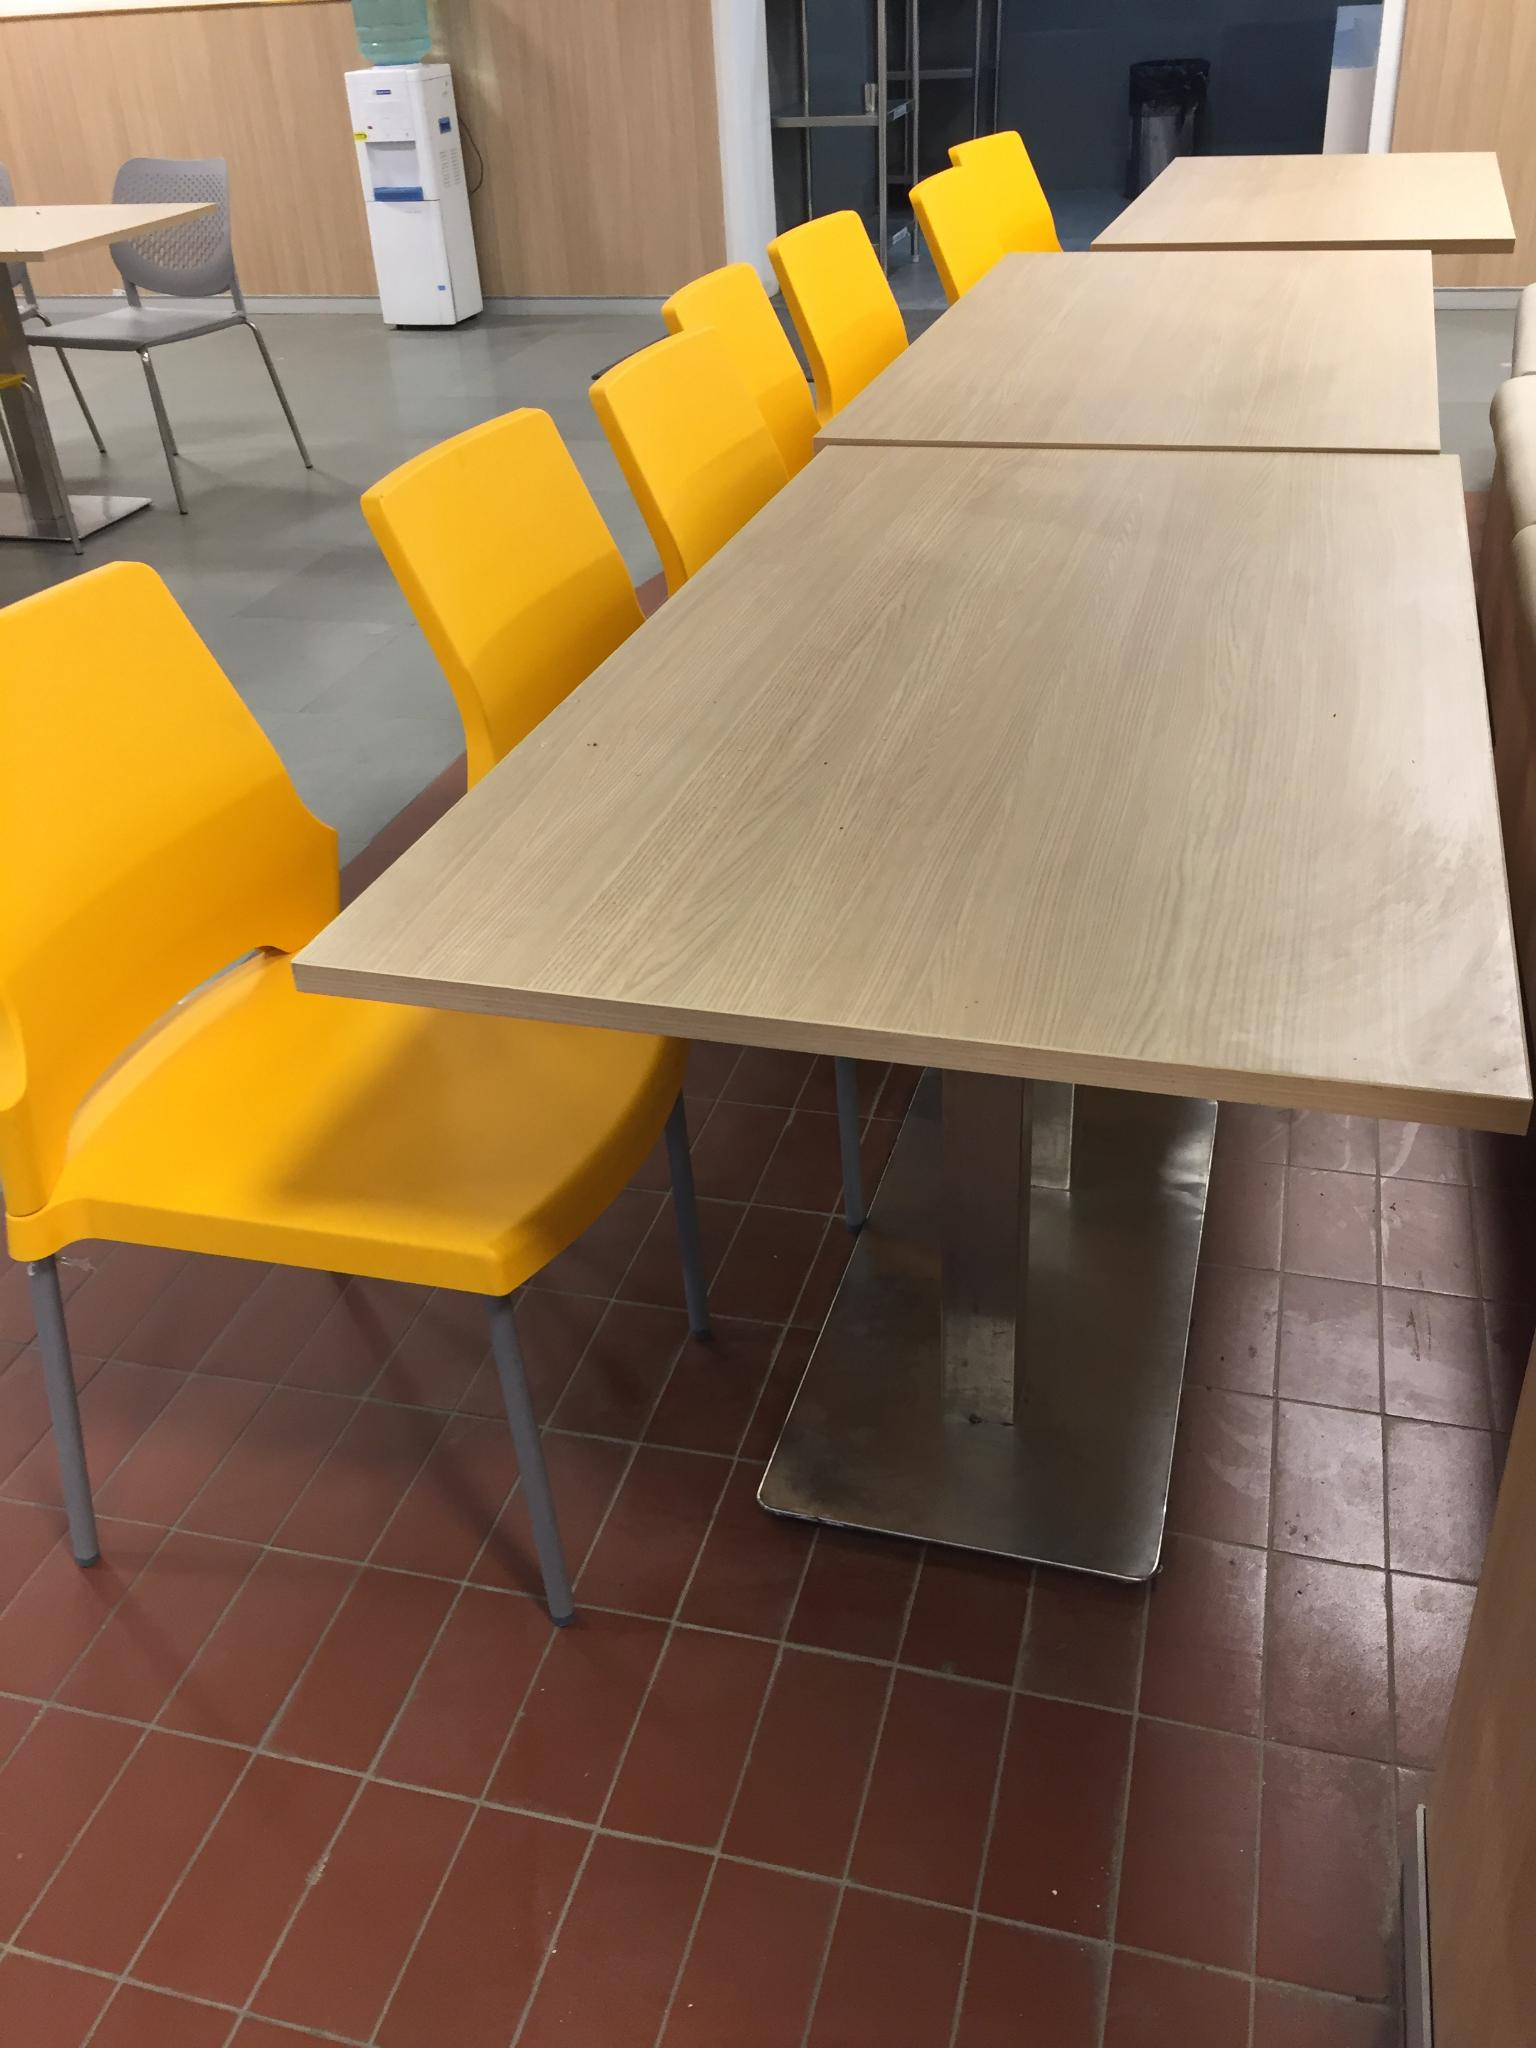chair: (2, 560, 715, 1625), (321, 371, 936, 1182), (21, 156, 313, 516), (587, 319, 792, 597), (660, 261, 821, 479), (765, 208, 912, 419), (907, 160, 1063, 305)
